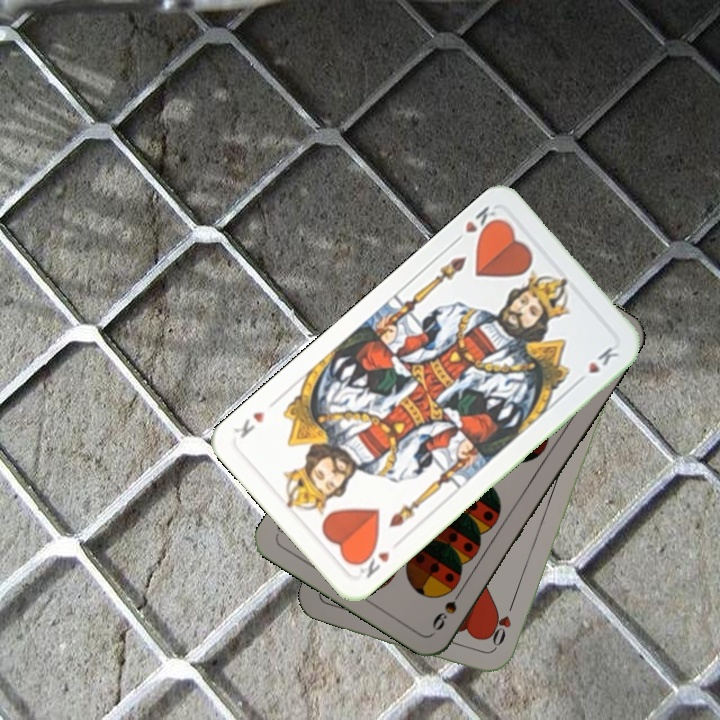HK: (448, 201, 504, 247), (352, 543, 393, 581)
HO: (487, 597, 517, 654)
S9: (427, 582, 467, 634)
